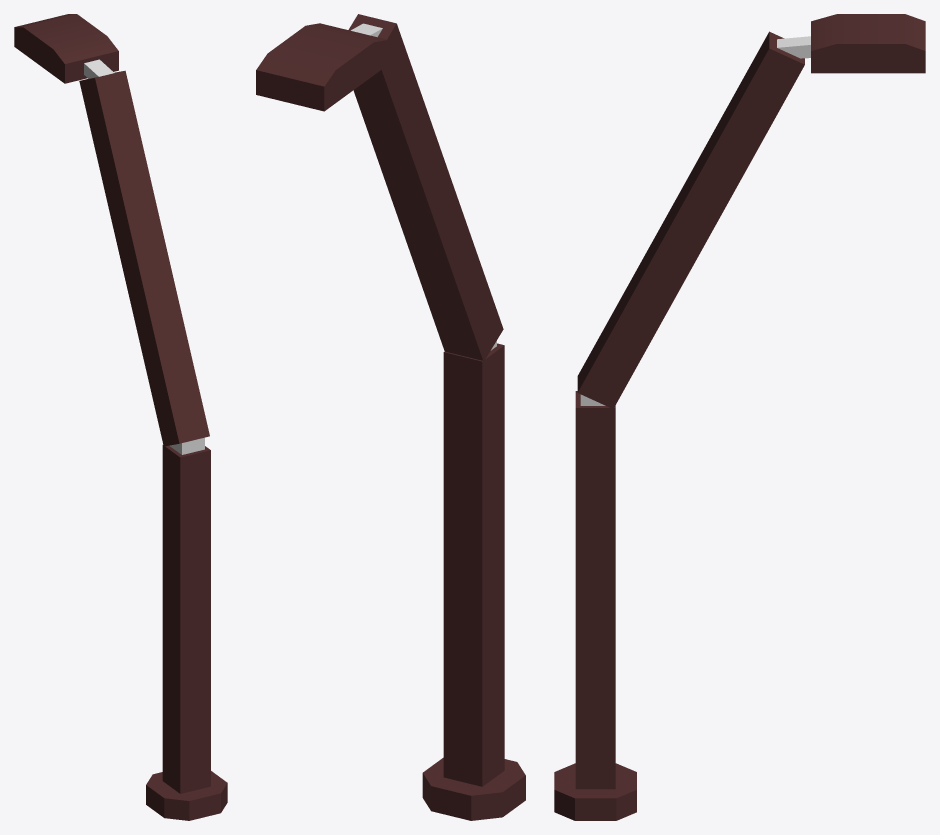
File: lamp.fbx
The picture shows the model from 3 angles, left to right: view 1: azimuth 30°, elevation 25°; view 2: azimuth 150°, elevation 25°; view 3: azimuth 270°, elevation 25°; orthographic projection. The views are drawn at different scales.
Visible parts, largest first — view 1: pCube42, pCube41, pCube45, pCube40; view 2: pCube41, pCube42, pCube45, pCube40; view 3: pCube42, pCube41, pCube45, pCube40.
Boxes of the visible parts, x1,y1,x2,y2 form: pCube42: [79, 70, 209, 446]; pCube41: [162, 445, 210, 793]; pCube45: [14, 14, 118, 83]; pCube40: [146, 771, 227, 820]; pCube41: [443, 343, 504, 786]; pCube42: [348, 14, 503, 360]; pCube45: [256, 23, 388, 111]; pCube40: [422, 757, 525, 820]; pCube42: [577, 31, 804, 408]; pCube41: [575, 391, 615, 789]; pCube45: [811, 14, 925, 73]; pCube40: [554, 763, 636, 820].
Bounding box in the file's own units: 0.4806 × 4.96 × 2.15.
